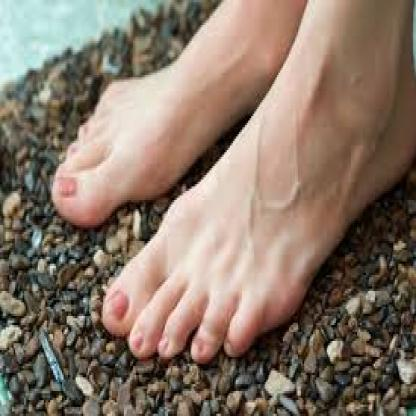Healthy Skin: (173, 212, 291, 306), (296, 86, 390, 189)
